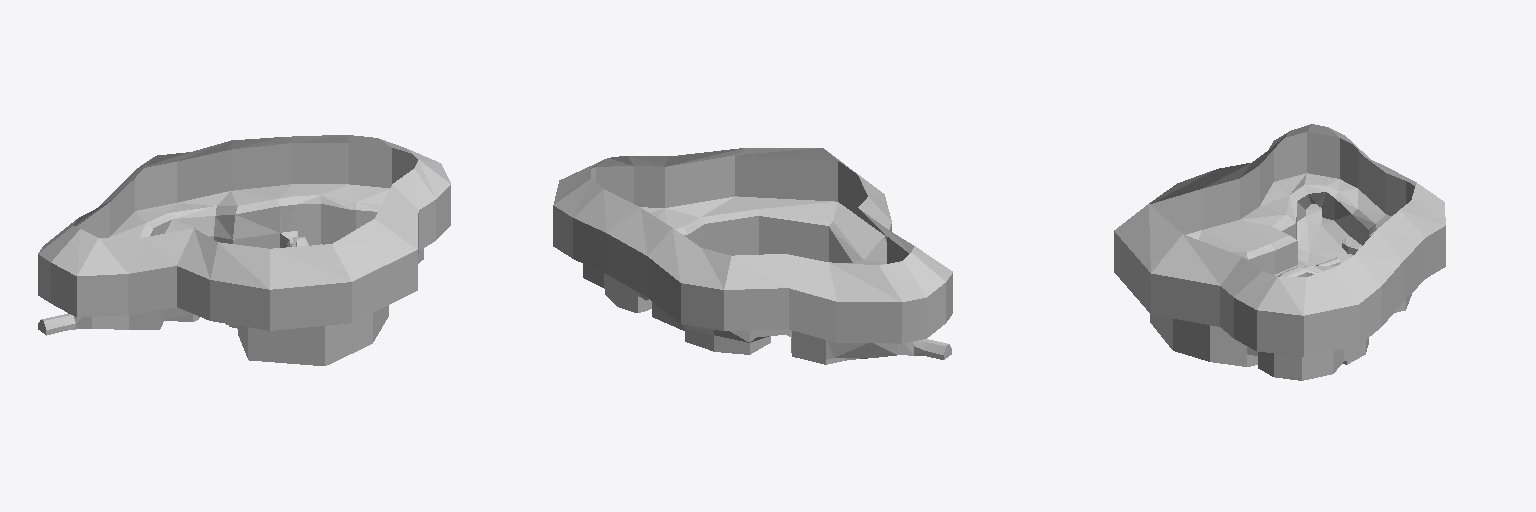
Rendered from Forest of Fairies.obj.
The picture shows the model from 3 angles: view 1: azimuth 30°, elevation 25°; view 2: azimuth 150°, elevation 25°; view 3: azimuth 270°, elevation 25°; orthographic projection.
Visible parts, largest first — view 1: n0b0, n5b5, n3b1, n6b6; view 2: n0b0, n5b5, n3b1, n6b6; view 3: n0b0, n5b5, n3b1, n1b2.
Part boxes in pixels (bbox=[...]): n0b0: bbox=[38, 135, 450, 330]; n5b5: bbox=[68, 195, 423, 365]; n3b1: bbox=[109, 184, 389, 246]; n6b6: bbox=[38, 314, 75, 335]; n0b0: bbox=[553, 148, 952, 343]; n5b5: bbox=[583, 209, 915, 364]; n3b1: bbox=[641, 196, 886, 336]; n6b6: bbox=[914, 339, 951, 359]; n0b0: bbox=[1114, 124, 1445, 356]; n5b5: bbox=[1150, 185, 1411, 380]; n3b1: bbox=[1186, 173, 1391, 276]; n1b2: bbox=[1297, 216, 1353, 265].
Size of the model in its own units: 8018 by 2517 by 5859.